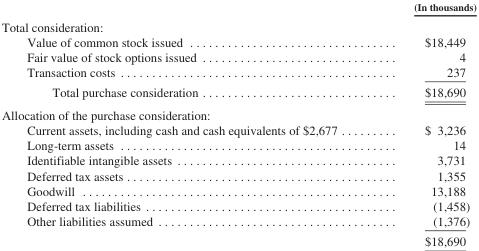table: (0, 1, 475, 248)
table column: (0, 1, 374, 248), (374, 1, 475, 248)
table column header: (0, 1, 475, 15)
table projected row header: (0, 103, 475, 122), (0, 15, 475, 33)
table row: (0, 81, 475, 103), (0, 103, 475, 122), (0, 15, 475, 33), (0, 230, 475, 248), (0, 64, 475, 81), (0, 213, 475, 230), (0, 33, 475, 49), (0, 182, 475, 198), (0, 49, 475, 64), (0, 122, 475, 137), (0, 137, 475, 152), (0, 152, 475, 167), (0, 167, 475, 182), (0, 198, 475, 213), (0, 1, 475, 15)
